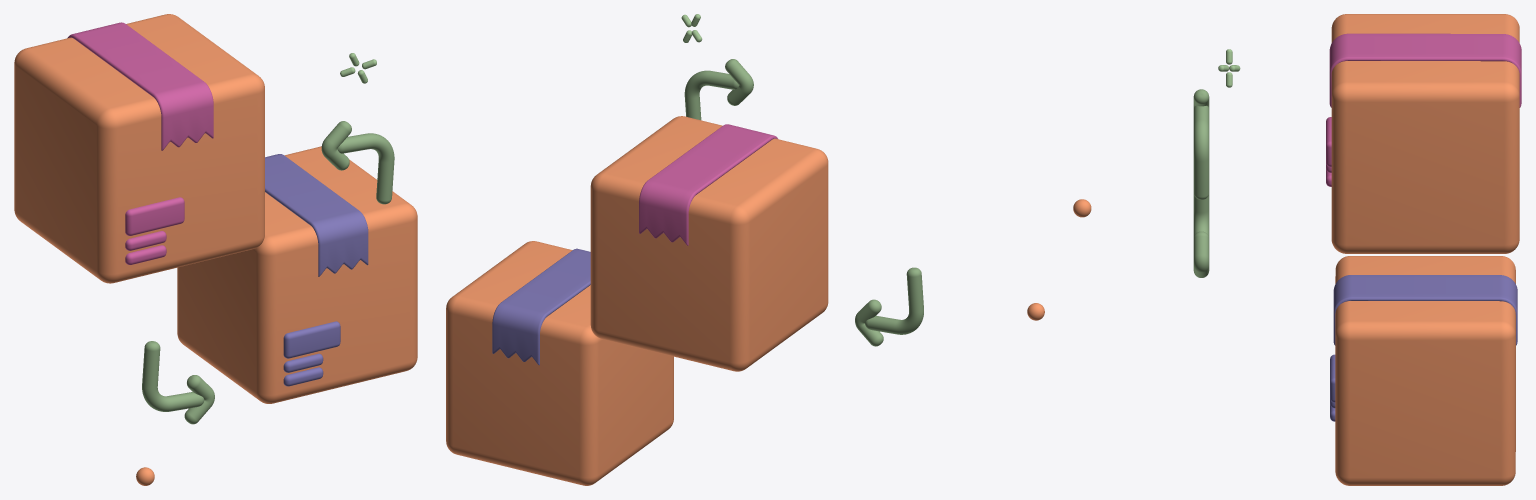
File: replace-product-3d-animated-icon-694258994195.glb
The picture shows the model from 3 angles, left to right: view 1: azimuth 30°, elevation 25°; view 2: azimuth 150°, elevation 25°; view 3: azimuth 270°, elevation 25°; orthographic projection. The views are drawn at different scales.
Visible parts, largest first — view 1: Cube.006, Cube.005, Cube.003, Cube.004, Cube.008, Cube.001, Plane.002, Plane, Plane.001, Plane.003; view 2: Cube.006, Cube.005, Cube.003, Cube.004, Plane.002, Plane, Plane.001, Plane.003; view 3: Cube.006, Cube.005, Cube.003, Cube.004, Plane, Plane.003, Plane.002.
Boxes of the visible parts, x1,y1,x2,y2 form: Cube.006: [14, 14, 264, 283]; Cube.005: [177, 146, 417, 403]; Cube.003: [67, 22, 213, 150]; Cube.004: [265, 154, 368, 276]; Cube.008: [125, 197, 184, 264]; Cube.001: [283, 321, 340, 386]; Plane.002: [142, 341, 204, 411]; Plane: [337, 133, 394, 204]; Plane.001: [321, 121, 351, 170]; Plane.003: [184, 375, 214, 424]; Cube.006: [590, 116, 828, 371]; Cube.005: [446, 241, 673, 485]; Cube.003: [639, 124, 777, 245]; Cube.004: [492, 248, 590, 365]; Plane.002: [865, 267, 923, 334]; Plane: [684, 70, 738, 120]; Plane.001: [725, 59, 753, 105]; Plane.003: [855, 299, 883, 346]; Cube.006: [1331, 14, 1519, 253]; Cube.005: [1335, 256, 1515, 485]; Cube.003: [1329, 33, 1521, 107]; Cube.004: [1333, 275, 1517, 345]; Plane: [1193, 105, 1209, 199]; Plane.003: [1193, 231, 1209, 277]; Plane.002: [1193, 194, 1209, 237].
Size of the model in its own units: 2.17 by 1.94 by 2.07.
